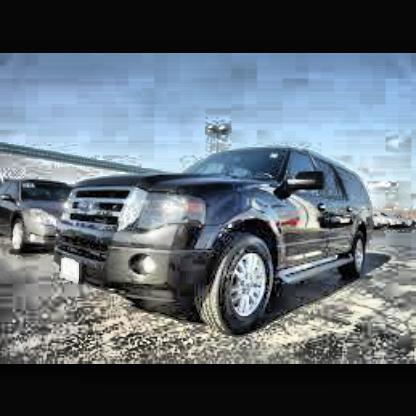Ford Expedition EL SUV 2009: (55, 144, 381, 338)
